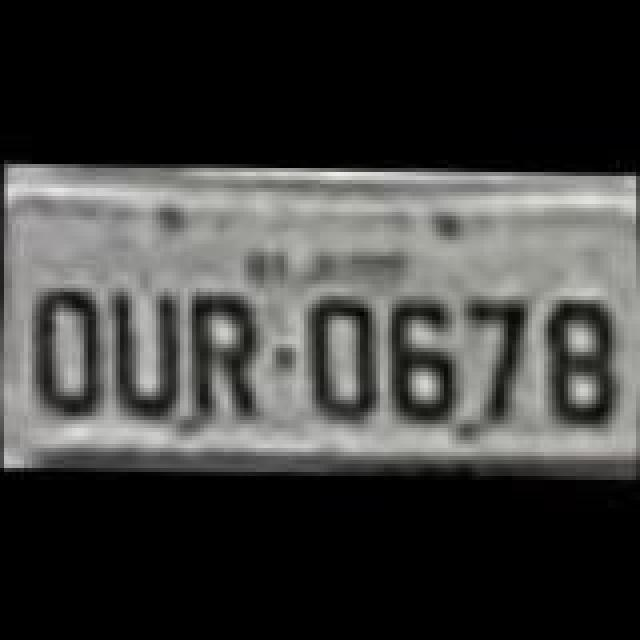6: (376, 294, 456, 422)
7: (460, 290, 532, 422)
8: (534, 294, 618, 426)
O: (24, 288, 104, 424), (304, 294, 384, 418)
R: (176, 288, 256, 420)
U: (102, 290, 186, 422)
